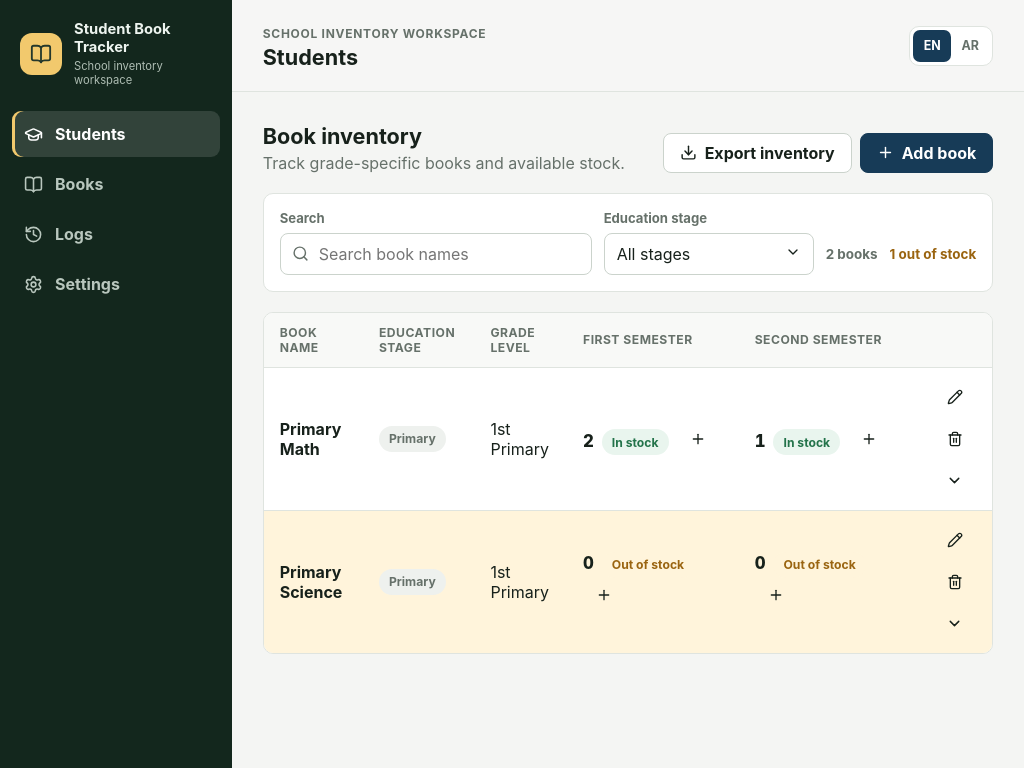
BooksScreen › deletes a subject only after the exact password
Step 1. Click the button named "Delete book Primary Math" → click(955, 439), box [934,422,976,456]
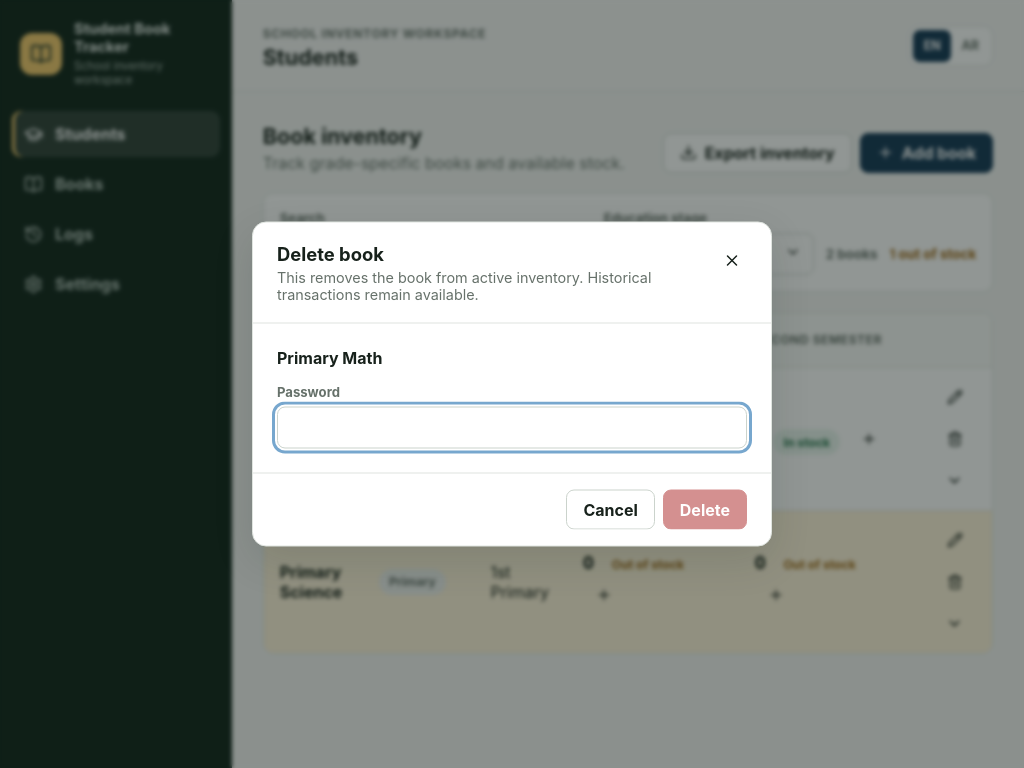
Result: the text "Primary Math" is shown at [277,348,382,368]
Step 2. Type "wrong" into the password field labelled "Password" → (512, 428), box [277,406,747,448]
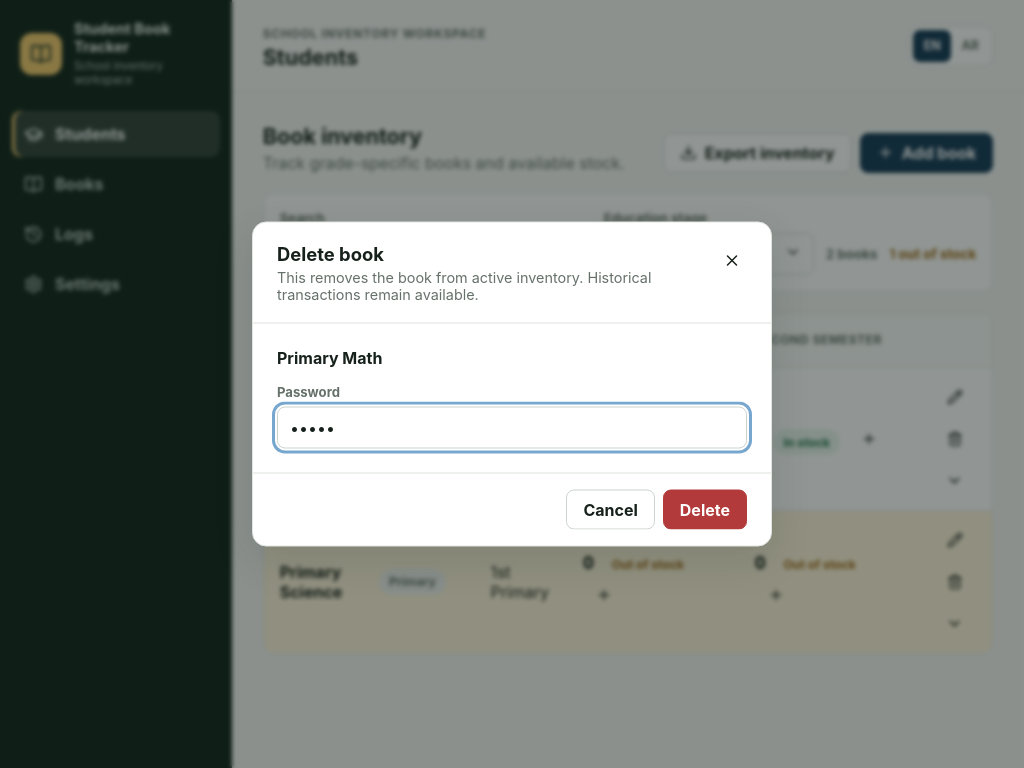
Step 3. Click the button "Delete" → click(705, 510), box [663,490,747,530]
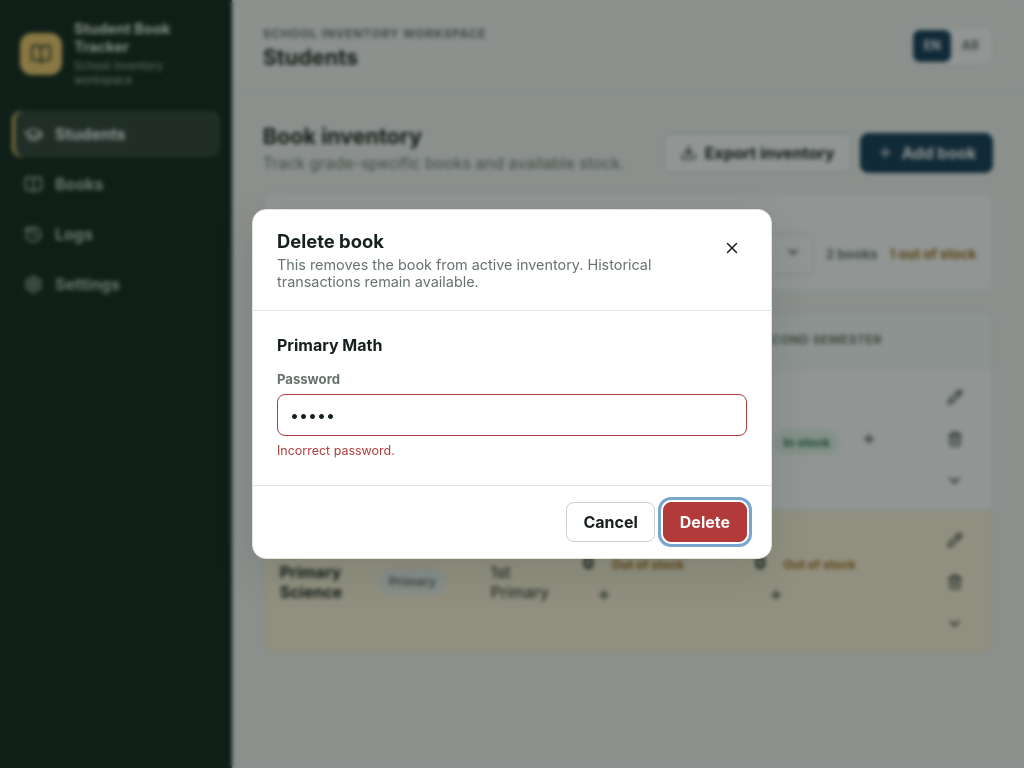
Result: the text "Incorrect password." is shown at [277,443,395,458]
Step 4. Clear the password field labelled "Password" → (512, 415), box [277,394,747,436]
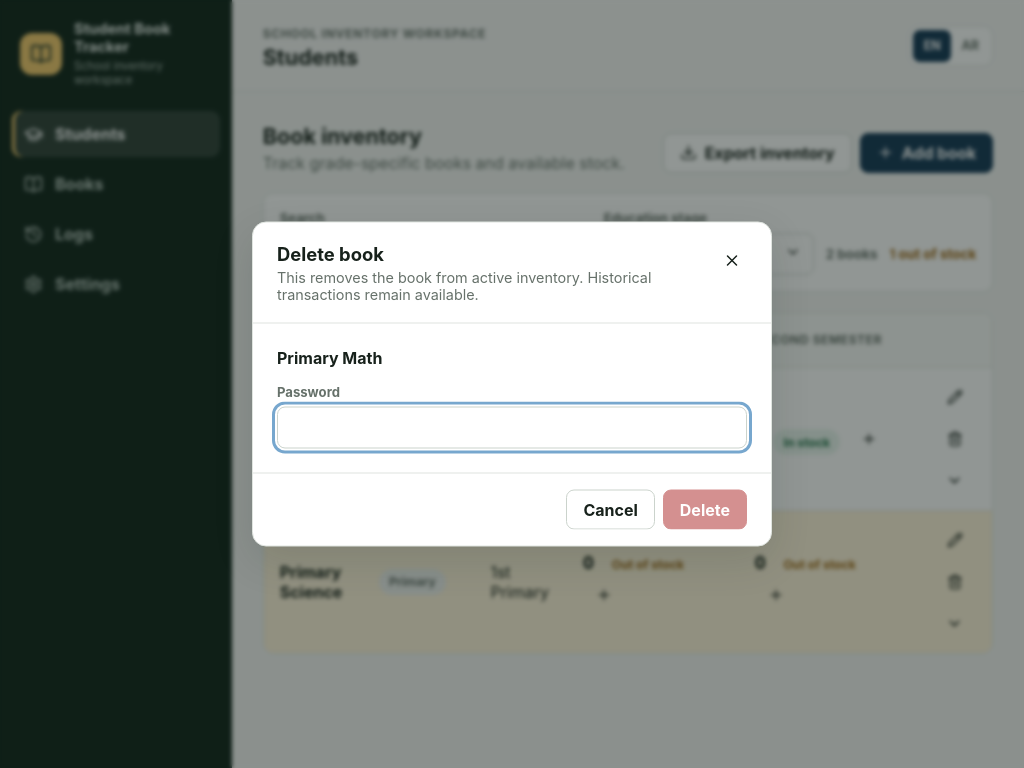
Step 5. Type "az2026" into the password field labelled "Password" → (512, 428), box [277,406,747,448]
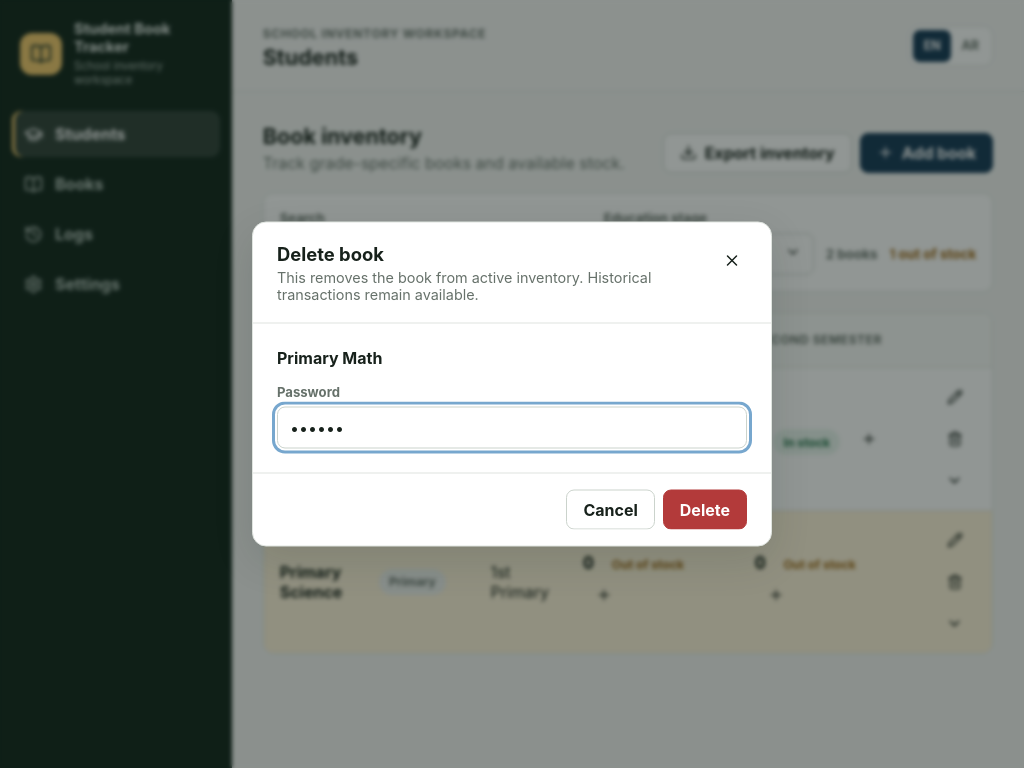
Step 6. Click the button "Delete" → click(705, 510), box [663,490,747,530]
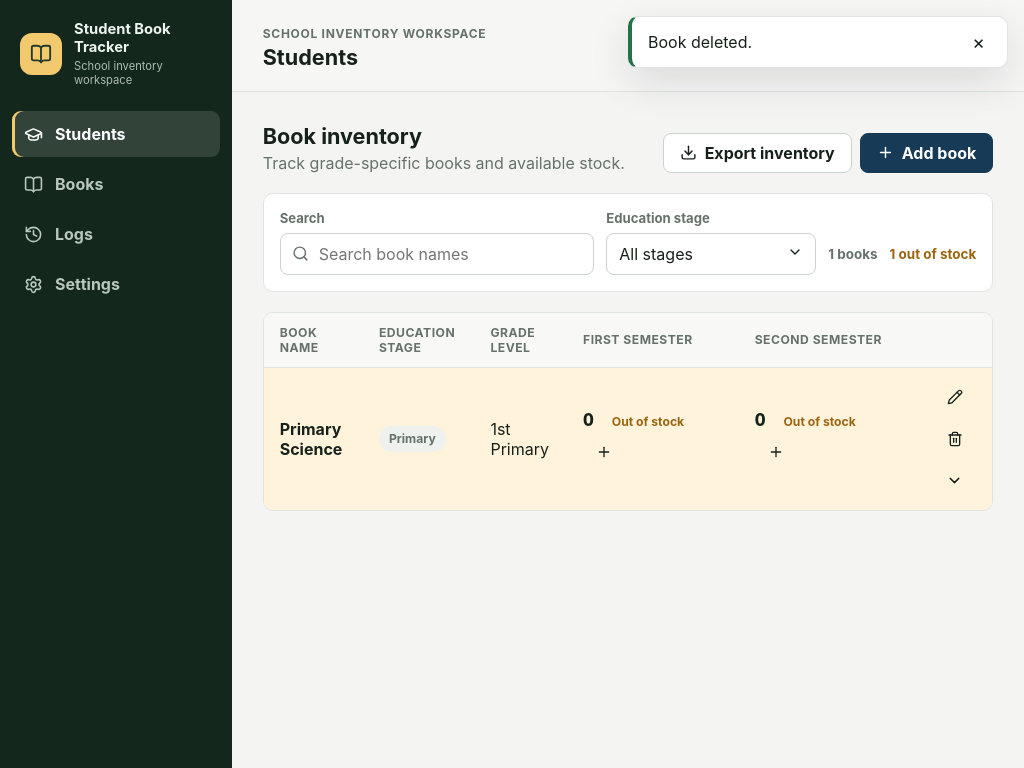
Result: the text "Primary Math" is gone
